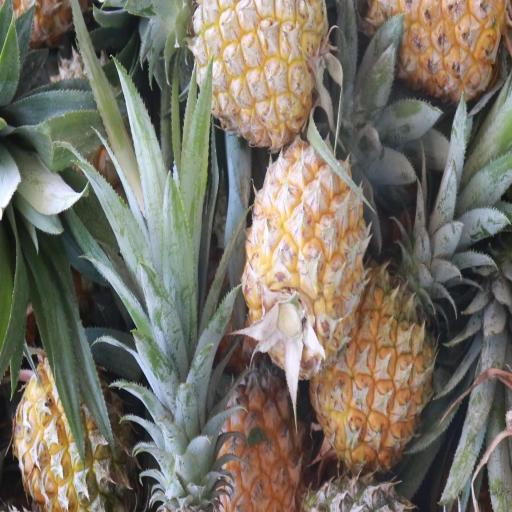------------------------------: (12, 357, 133, 512)
Pineapple - v8 v1: (245, 142, 363, 373), (310, 264, 430, 464), (184, 0, 325, 144), (210, 361, 307, 512), (375, 0, 506, 97)
